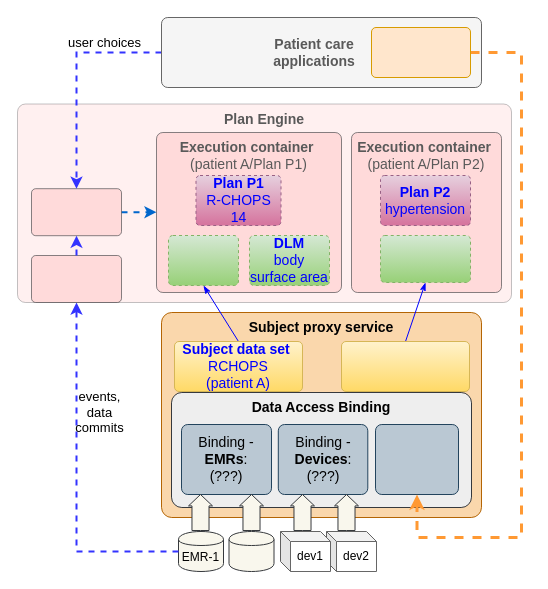
This 548x589 diagram has some shape labels left out. The shapes that lost their labels are listed below. From the top down, each one's centre as x and y in pixels, then its label:
(420,52): Missing data requester
(76,212): Plan Selector
(76,278): Event Handler
(203,260): DLM RCHOPS
(425,258): DLM Hypertension
(405,366): Subject data set Hypertension (patient B)
(416,459): Binding - Users : (???)
(251,551): EMR-2
